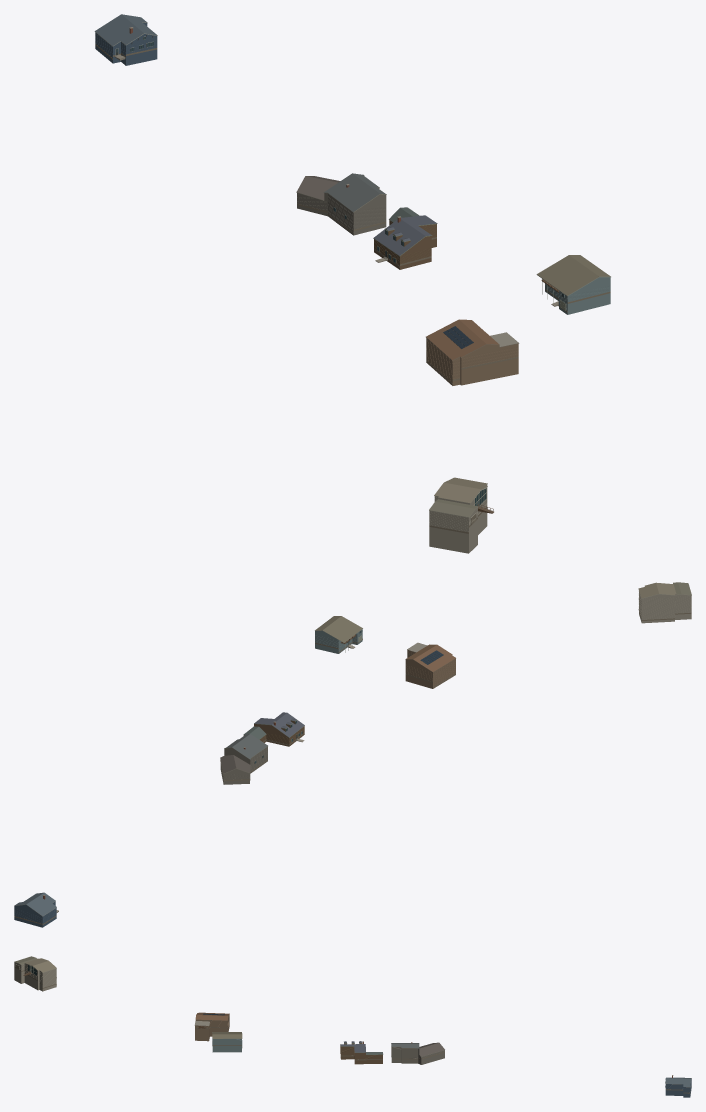
File: site.glb
The picture shows the model from 3 angles, top to bottom: view 1: azimuth 30°, elevation 25°; view 2: azimuth 150°, elevation 25°; view 3: azimuth 270°, elevation 25°; orthographic projection. The views are drawn at different scales.
Visible parts, largest first — view 1: roof-169a7b78, roof-05727176, roof-e0d560b4, roof-699d6c1e, roof-22175da6, roof-b2800bfe; view 2: roof-e0d560b4, roof-169a7b78, roof-05727176, roof-699d6c1e, roof-22175da6, roof-b2800bfe; view 3: roof-e0d560b4, roof-05727176, roof-169a7b78, roof-22175da6, roof-699d6c1e, roof-b2800bfe.
Part boxes in pixels (bbox=[...]): roof-169a7b78: bbox=[426, 319, 519, 385]; roof-05727176: bbox=[296, 173, 386, 235]; roof-e0d560b4: bbox=[429, 477, 493, 553]; roof-699d6c1e: bbox=[536, 255, 610, 314]; roof-22175da6: bbox=[373, 207, 437, 269]; roof-b2800bfe: bbox=[94, 14, 157, 65]; roof-e0d560b4: bbox=[638, 582, 691, 623]; roof-169a7b78: bbox=[405, 642, 455, 688]; roof-05727176: bbox=[220, 734, 267, 784]; roof-699d6c1e: bbox=[315, 616, 362, 653]; roof-22175da6: bbox=[243, 712, 304, 746]; roof-b2800bfe: bbox=[14, 892, 56, 927]; roof-e0d560b4: bbox=[14, 956, 56, 991]; roof-05727176: bbox=[391, 1042, 444, 1064]; roof-169a7b78: bbox=[194, 1012, 229, 1041]; roof-22175da6: bbox=[340, 1041, 383, 1064]; roof-699d6c1e: bbox=[212, 1032, 242, 1052]; roof-b2800bfe: bbox=[665, 1075, 691, 1097].
Bounding box in the file's own units: 123 × 36.88 × 387.
